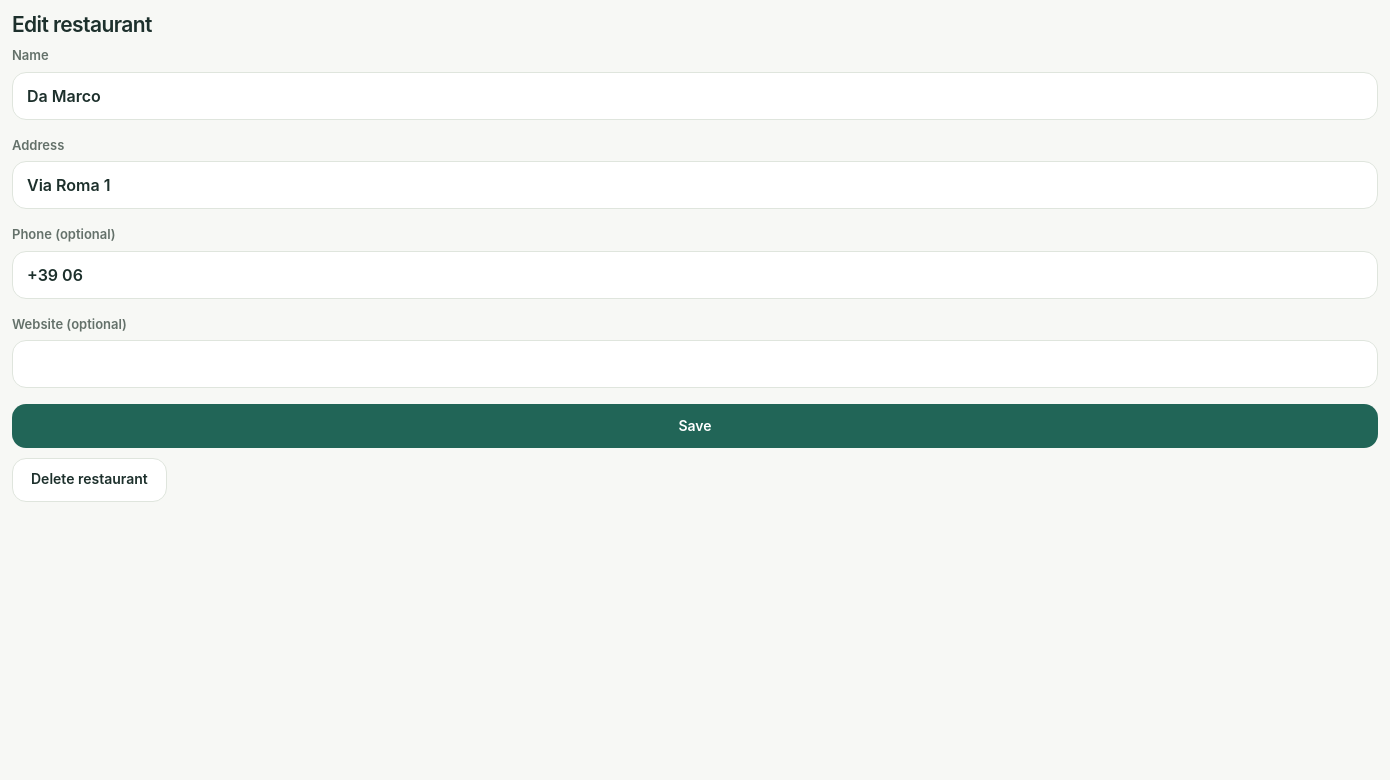
RestaurantFormPage — edit › names notes in the delete confirmation and reports a failed delete with the delete verb
Click the button with test id "delete-restaurant" at (89, 480), box 12,458 -> 167,502
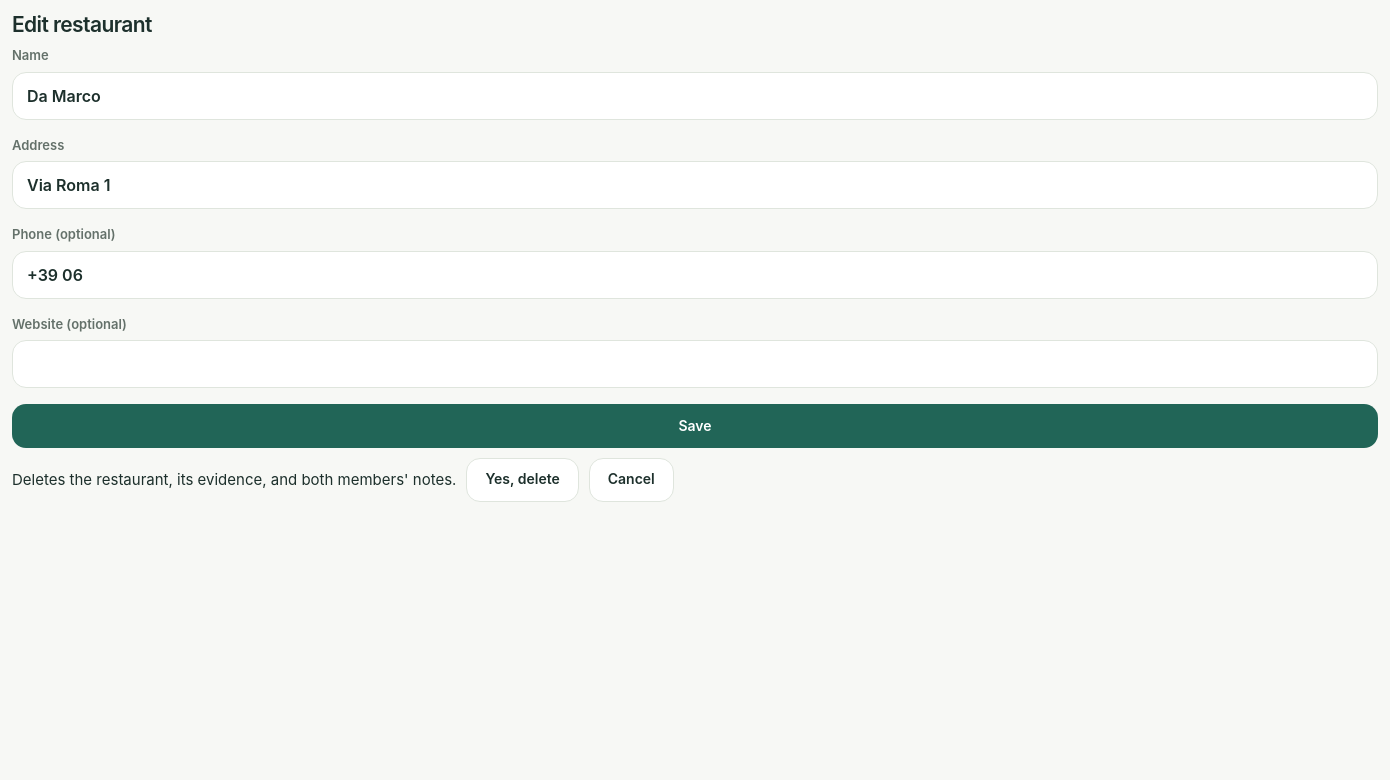
Expected: the text with test id "delete-question" reads "Deletes the restaurant, its evidence, and both members' notes.", 12,470 -> 456,489
Click the button with test id "delete-confirm" at (523, 480), box 466,458 -> 579,502
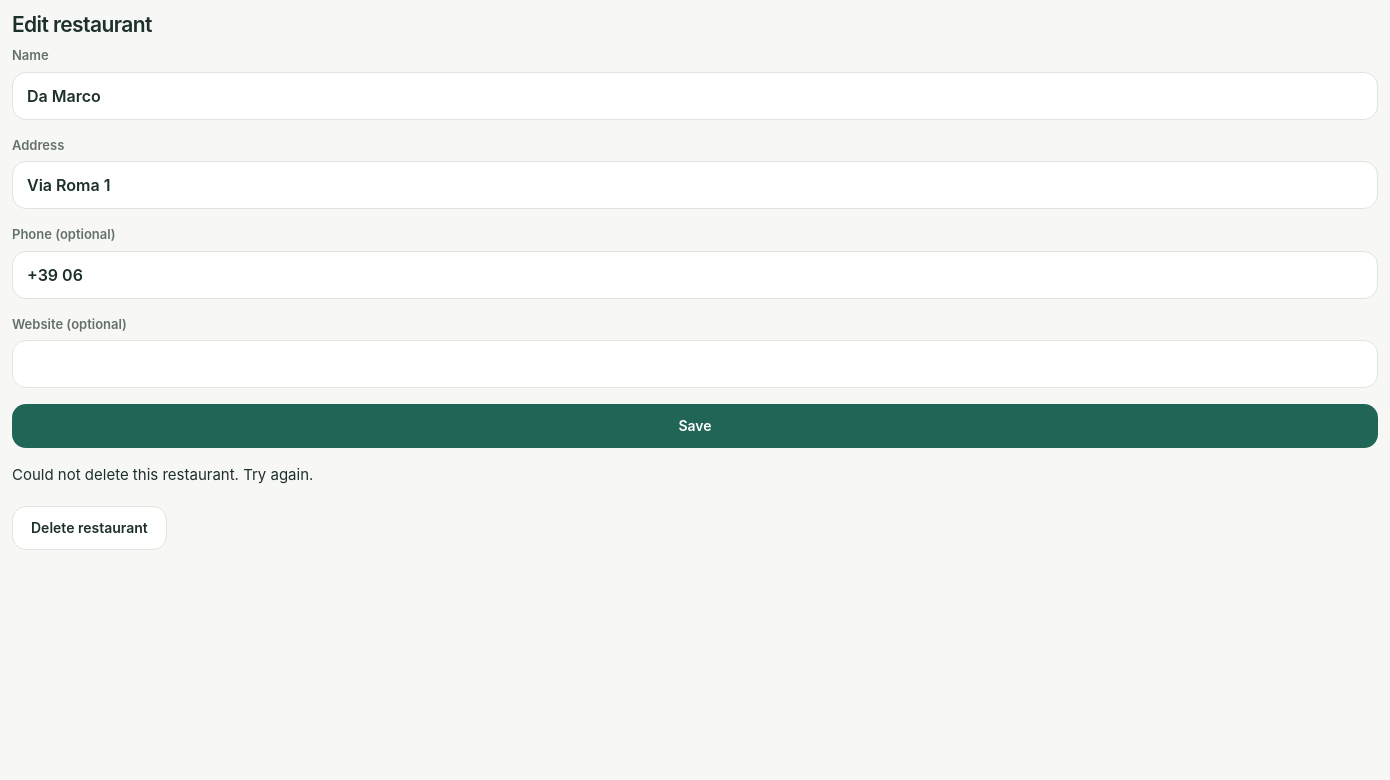
Expected: the message with test id "save-outcome" reads "Could not delete this restaurant. Try again.", 12,465 -> 313,484
